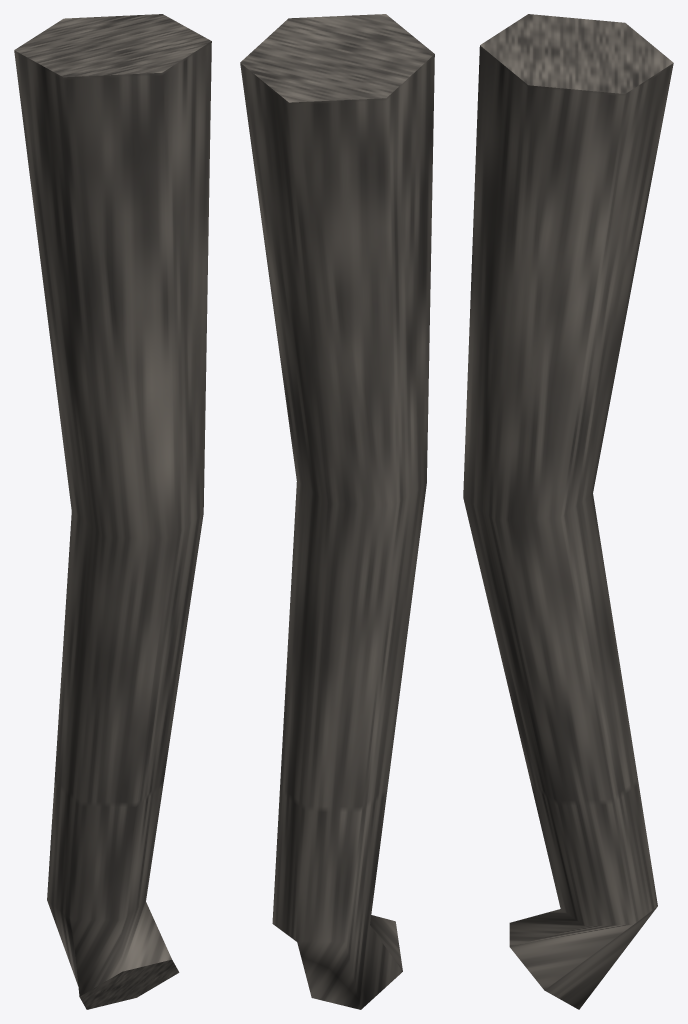
Rendered from wolf_leg.glb.
3 views of the same model, side by side, from view 1: azimuth 30°, elevation 25°; view 2: azimuth 150°, elevation 25°; view 3: azimuth 270°, elevation 25° (orthographic).
Parts seen in each view (by area): view 1: wolf_leg; view 2: wolf_leg; view 3: wolf_leg.
Part boxes in pixels (bbox=[...]): wolf_leg: bbox=[14, 14, 211, 1009]; wolf_leg: bbox=[240, 14, 434, 1009]; wolf_leg: bbox=[463, 14, 673, 1009].
Size of the model in its own units: 0.1039 by 0.6474 by 0.1297.
Materials: 1 (1 with a texture image).
